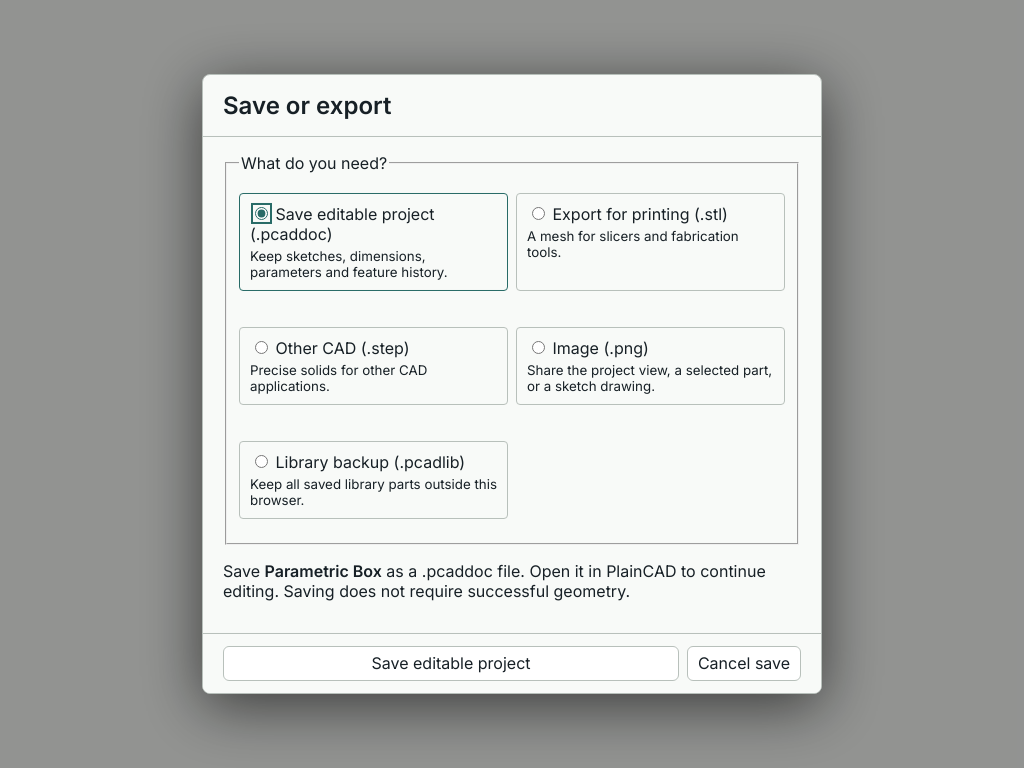
Test: shows five plain output goals and distinguishes unavailable native STEP
Click the radio button labelled "Other CAD (.step) Precise solids for other CAD applications.". click: (262, 347)
box: [255,341,268,354]
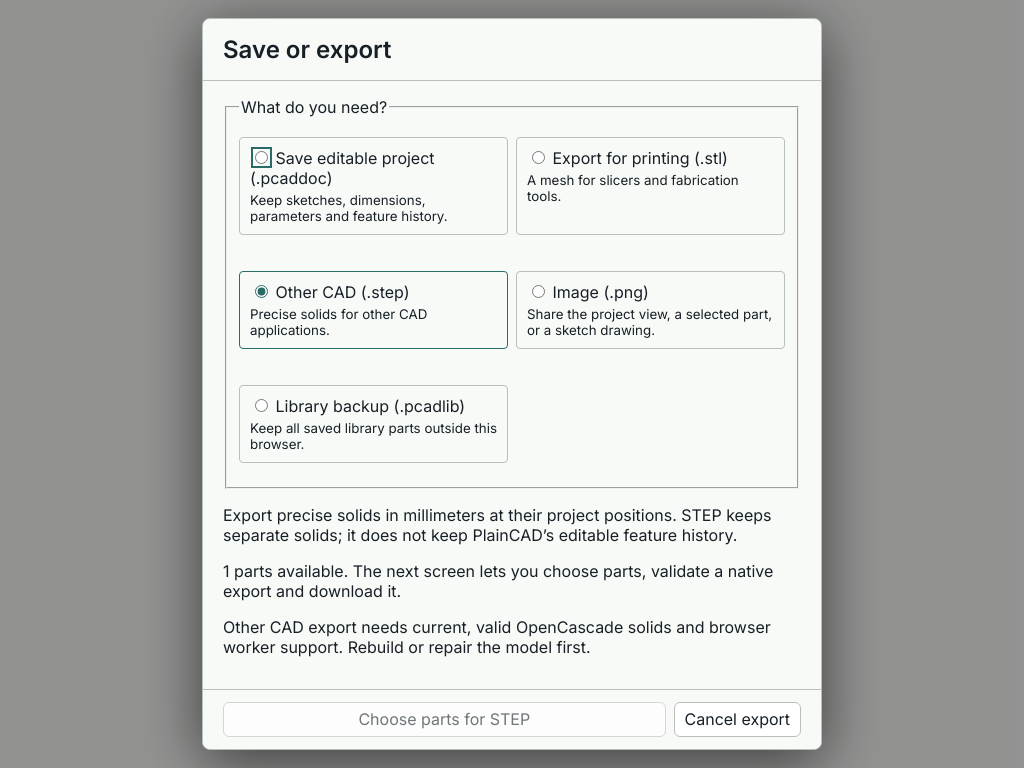
Result: the button "Choose parts for STEP" is disabled at [223,702,666,737]
Result: the message shows "valid OpenCascade solids" at [223,617,771,657]
Result: the text "does not keep PlainCAD" is shown at [223,505,772,545]
